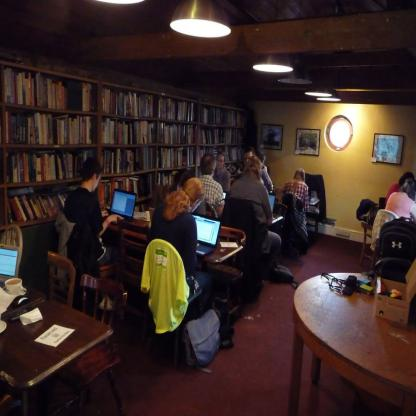book: (0, 71, 250, 230)
